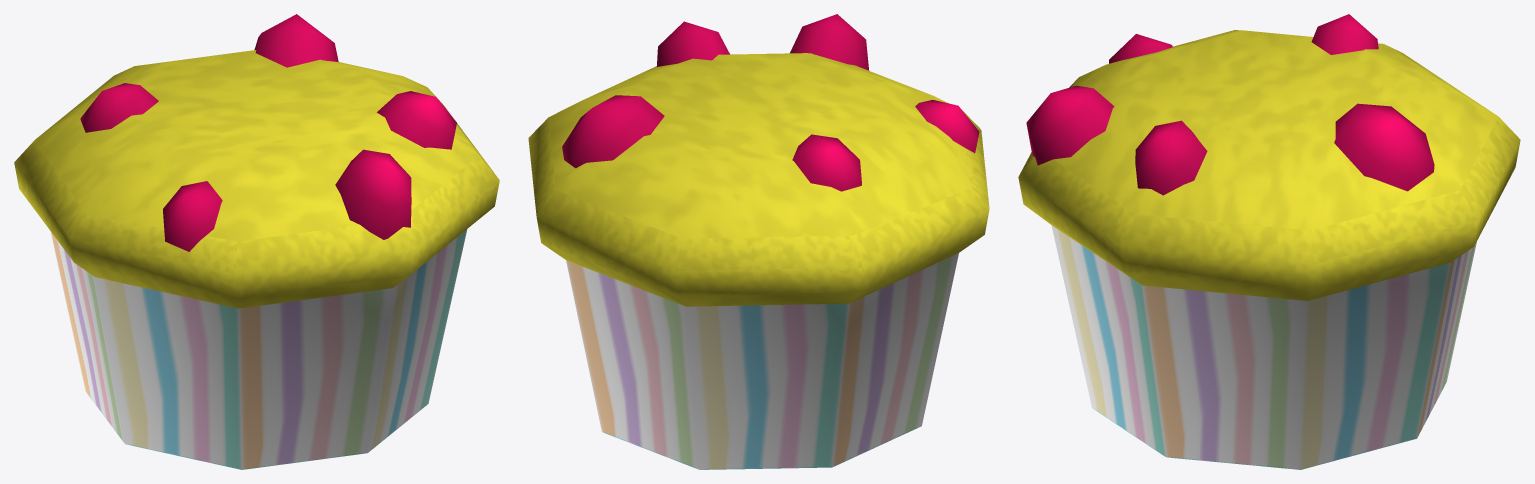
The model's file is Muffin_D_02.FBX.
The picture shows the model from 3 angles, left to right: view 1: azimuth 30°, elevation 25°; view 2: azimuth 150°, elevation 25°; view 3: azimuth 270°, elevation 25°; orthographic projection. The views are drawn at different scales.
Visible parts, largest first — view 1: Muffin; view 2: Muffin; view 3: Muffin.
Part boxes in pixels (left/top/right/bottom): Muffin: left=14, top=14, right=499, bottom=469; Muffin: left=528, top=14, right=989, bottom=469; Muffin: left=1018, top=14, right=1520, bottom=469.
Size of the model in its own units: 36.61 by 26.52 by 36.61.
